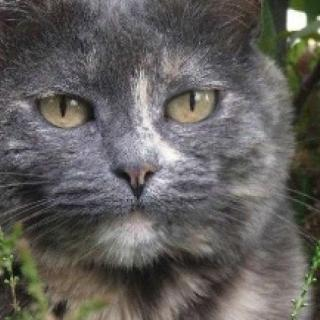cat: (0, 0, 294, 276)
nose: (100, 121, 167, 200)
